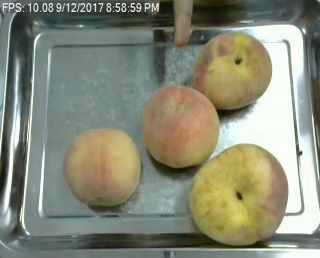Peach: (189, 143, 288, 245), (144, 85, 220, 169), (63, 126, 140, 207), (194, 33, 272, 111)
